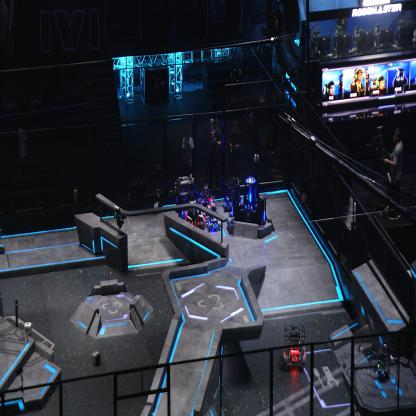car: (282, 321, 306, 371), (174, 174, 198, 218), (185, 201, 206, 231), (221, 182, 239, 211), (196, 181, 214, 209), (204, 202, 221, 231)
